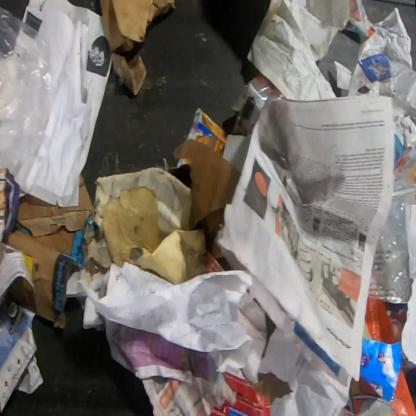cardboard: (101, 185, 208, 285), (7, 211, 96, 330), (162, 138, 242, 260), (99, 0, 176, 96), (16, 173, 96, 236), (230, 73, 287, 138), (209, 371, 273, 415)
soft_plastic: (0, 5, 56, 188), (368, 174, 415, 304)
